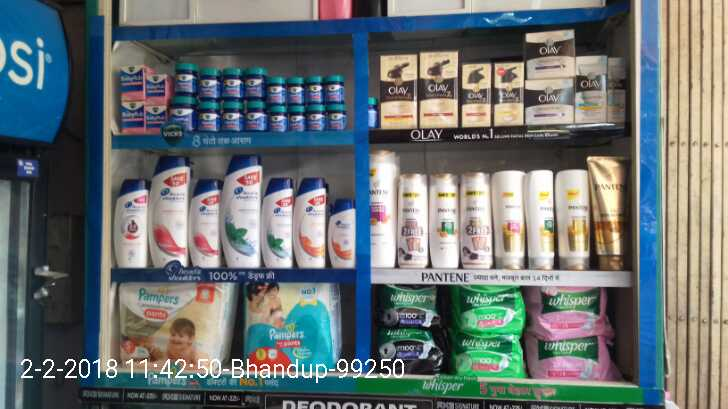vicks: (170, 63, 347, 132), (119, 65, 170, 133)
